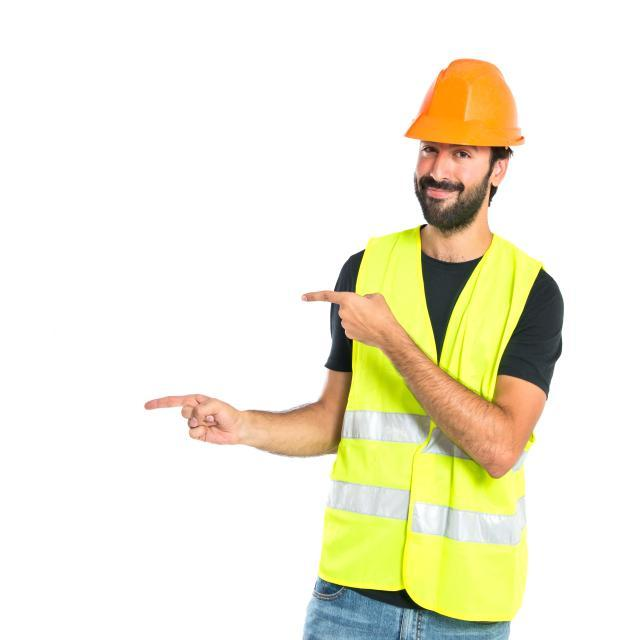helmet: (404, 40, 537, 177)
jacket: (371, 240, 520, 611)
